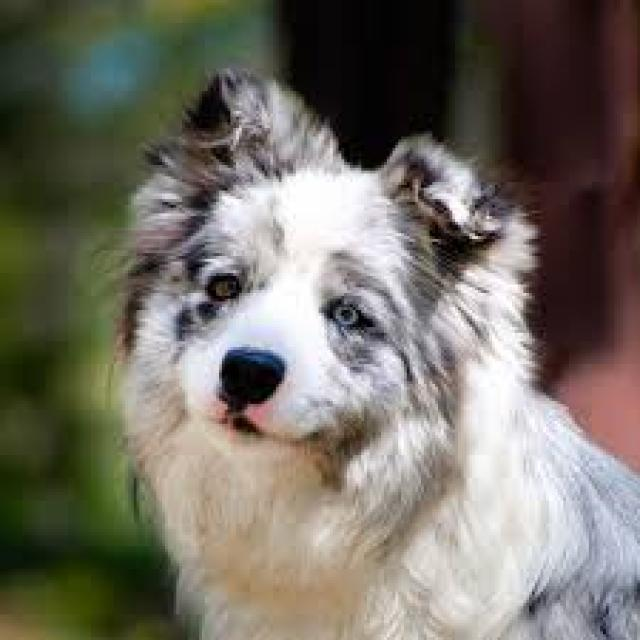BORDER_COLLIE: (88, 57, 640, 640)
